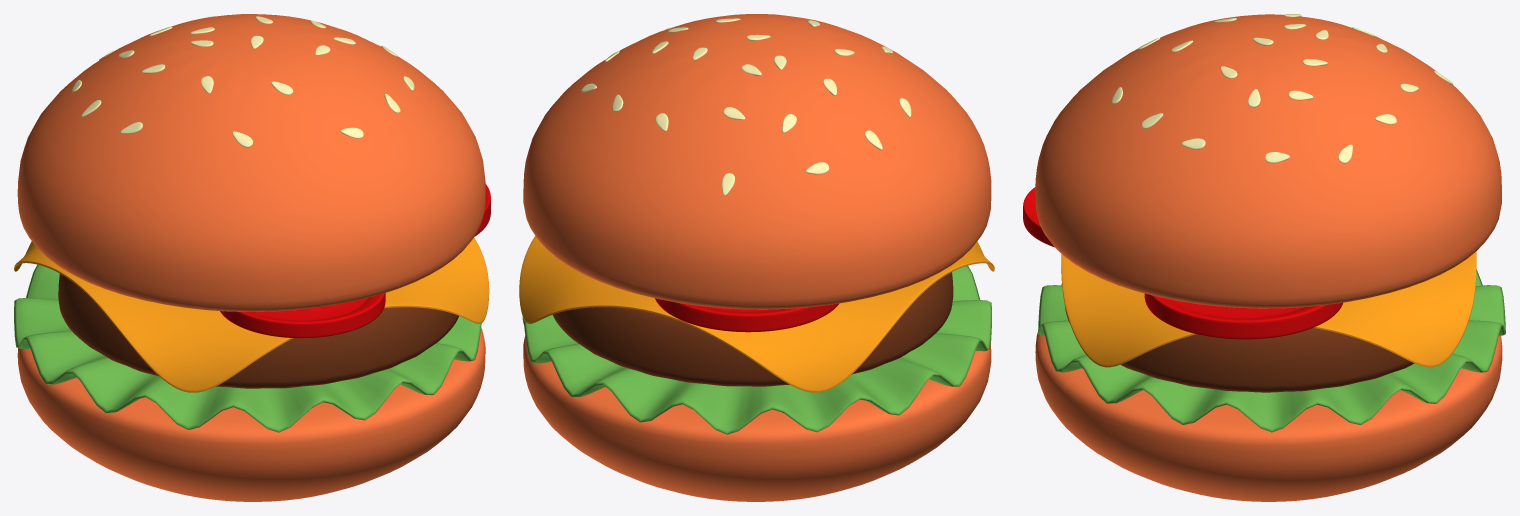
The model's file is Hamburguer.fbx.
The picture shows the model from 3 angles, left to right: view 1: azimuth 30°, elevation 25°; view 2: azimuth 150°, elevation 25°; view 3: azimuth 270°, elevation 25°; orthographic projection.
Parts seen in each view (by area): view 1: BreadTop, BreadBottom, Letuce, Plano, meat, tomato.001; view 2: BreadTop, BreadBottom, Letuce, Plano, meat, tomato.002; view 3: BreadTop, BreadBottom, Letuce, Plano, meat, tomato, tomato.001.
Boxes of the visible parts, bbox=[...] form: BreadTop: bbox=[17, 14, 485, 311]; BreadBottom: bbox=[17, 328, 485, 501]; Letuce: bbox=[14, 264, 481, 432]; Plano: bbox=[14, 237, 489, 392]; meat: bbox=[58, 274, 458, 388]; tomato.001: bbox=[220, 293, 385, 338]; BreadTop: bbox=[523, 14, 991, 309]; BreadBottom: bbox=[523, 335, 991, 501]; Letuce: bbox=[522, 265, 991, 434]; Plano: bbox=[519, 236, 994, 392]; meat: bbox=[553, 272, 953, 386]; tomato.002: bbox=[655, 298, 839, 332]; BreadTop: bbox=[1035, 14, 1501, 308]; BreadBottom: bbox=[1035, 332, 1502, 501]; Letuce: bbox=[1038, 270, 1505, 432]; Plano: bbox=[1061, 251, 1476, 367]; meat: bbox=[1065, 306, 1414, 392]; tomato: bbox=[1144, 293, 1342, 339]; tomato.001: bbox=[1023, 187, 1054, 247].
Size of the model in its own units: 10.06 by 9.91 by 10.08.
